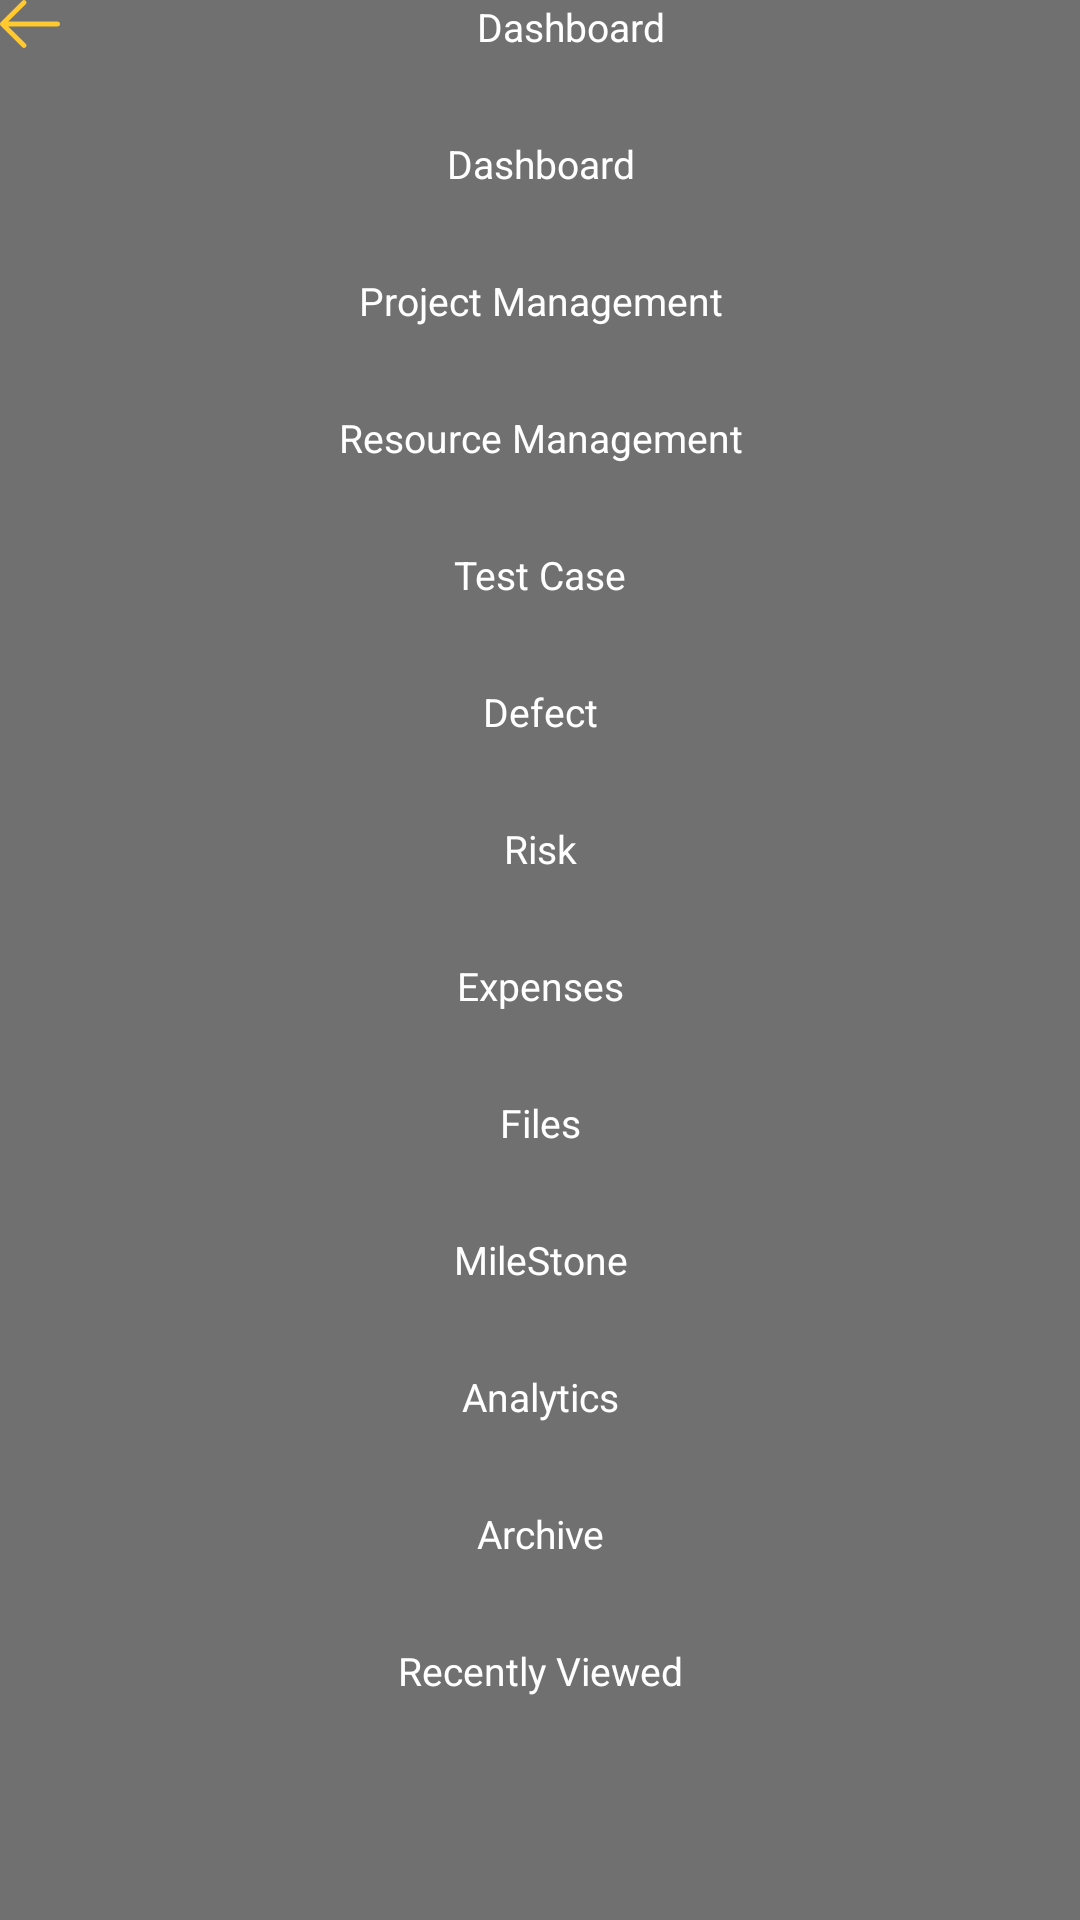

Point at icon controls on the screen. Image size 1080*1920, points as (x=x, y=y).
back: (x=30, y=24)
